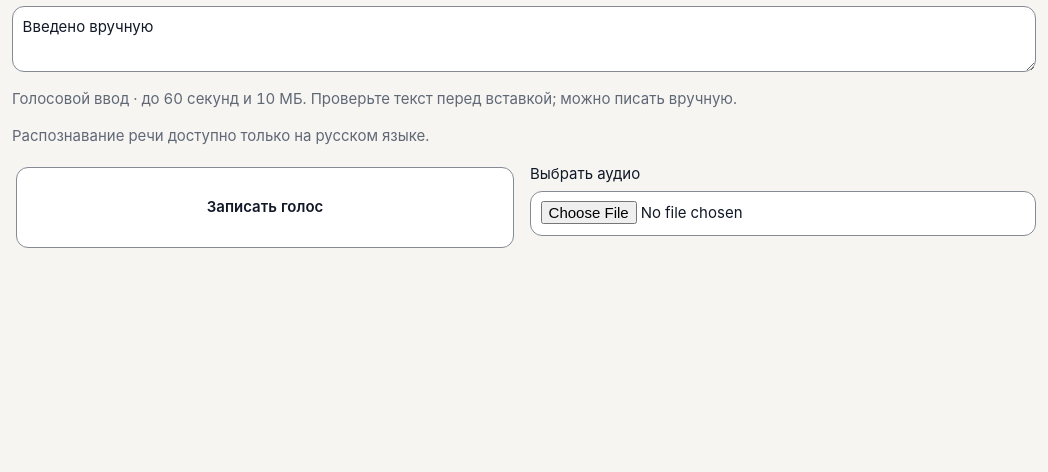
Test: stops at fifty-nine seconds and uploads final data within the server duration limit
Later steps or results of the test are not shown.
Click the button "Записать голос": (265, 207) [16,167,514,248]
Wait 59000 ms
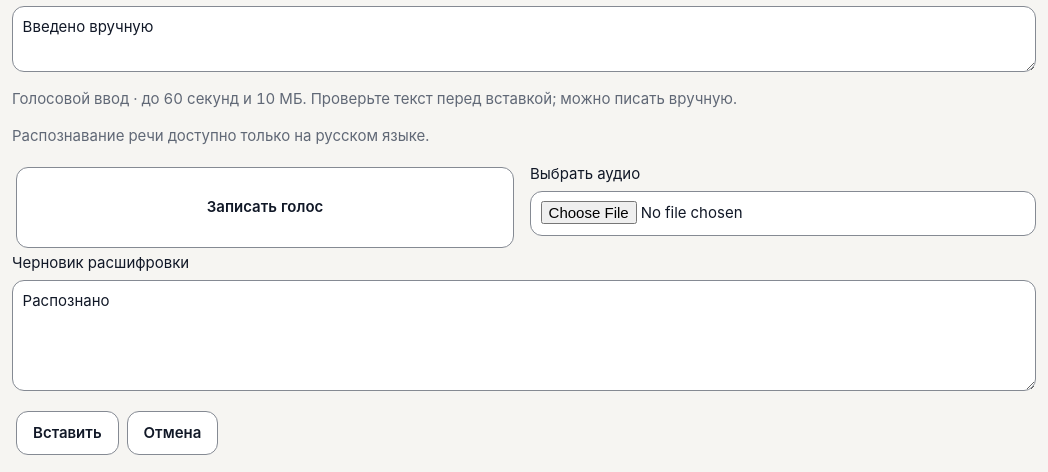
Check: the button "Отмена" is shown, box [127,411,218,455]
